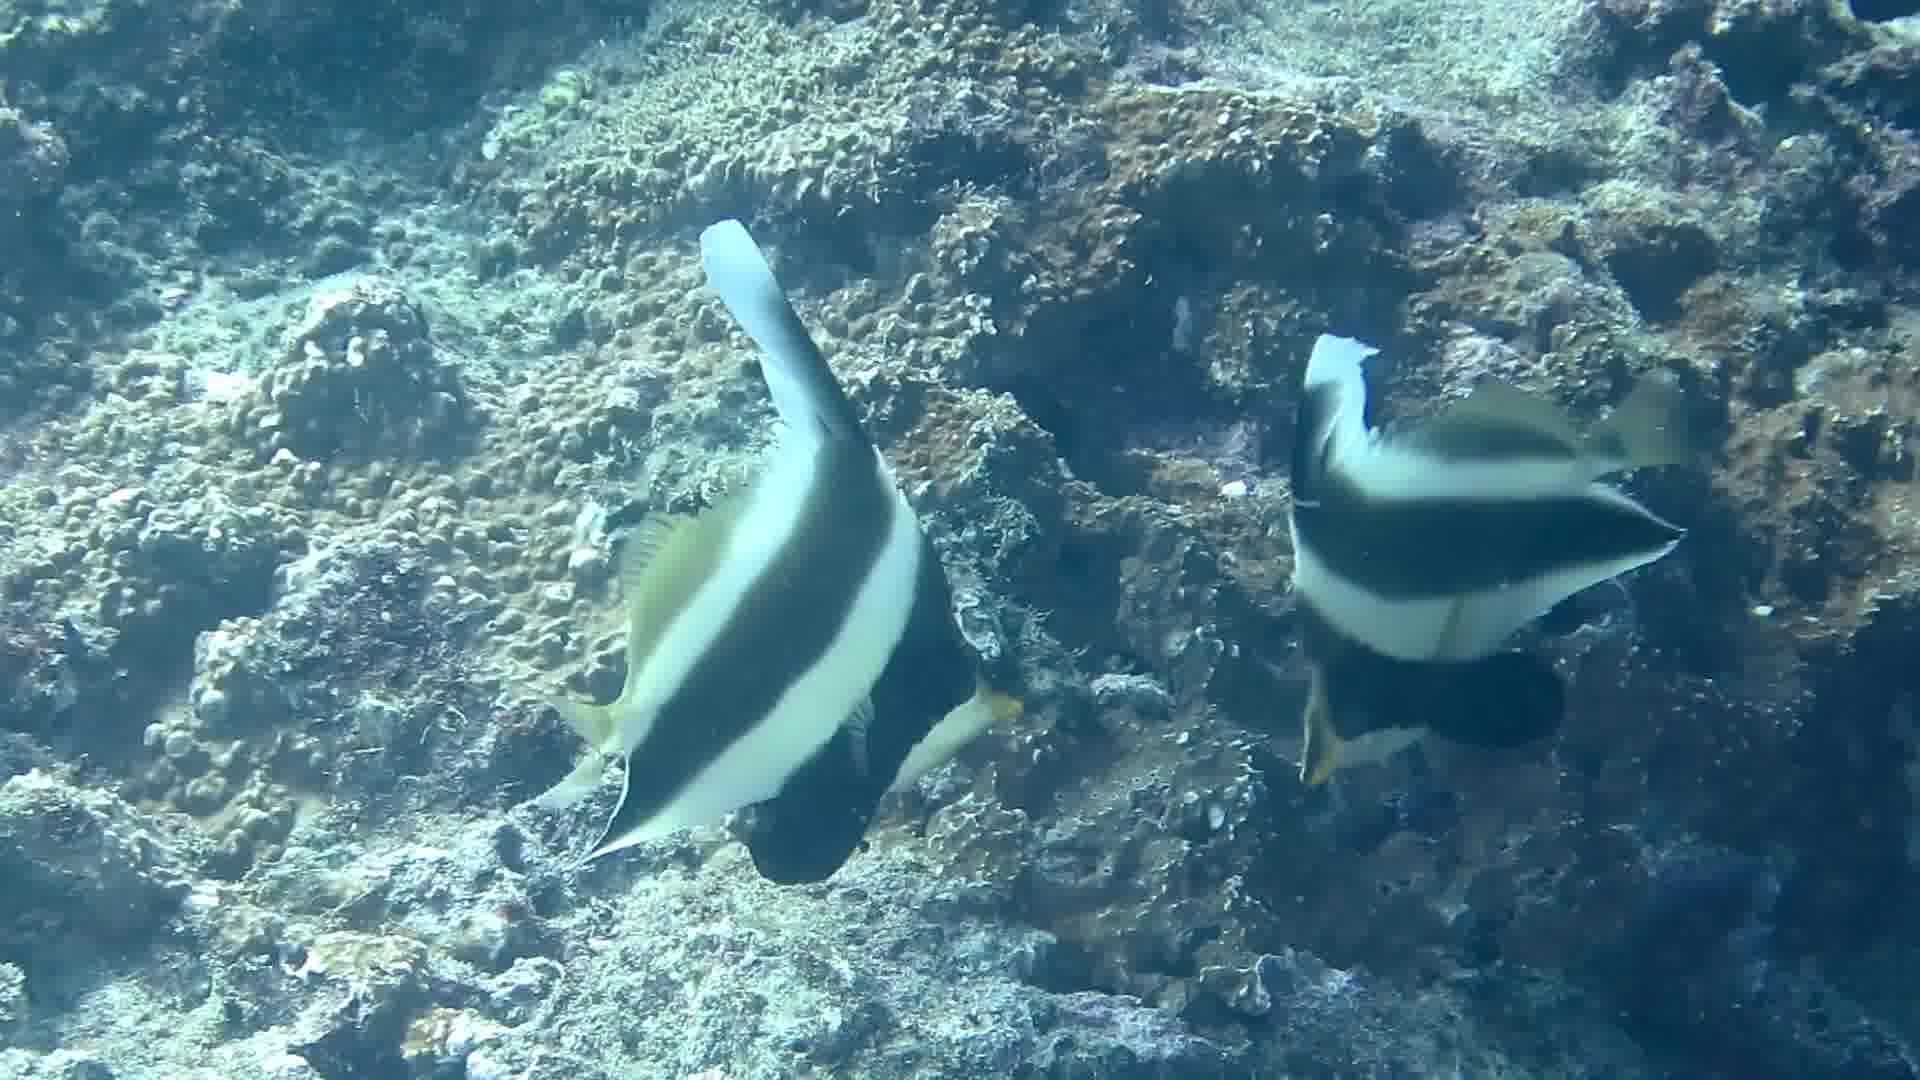Heniochus chrysostomus: (1188, 169, 1730, 938), (516, 190, 1058, 957)
